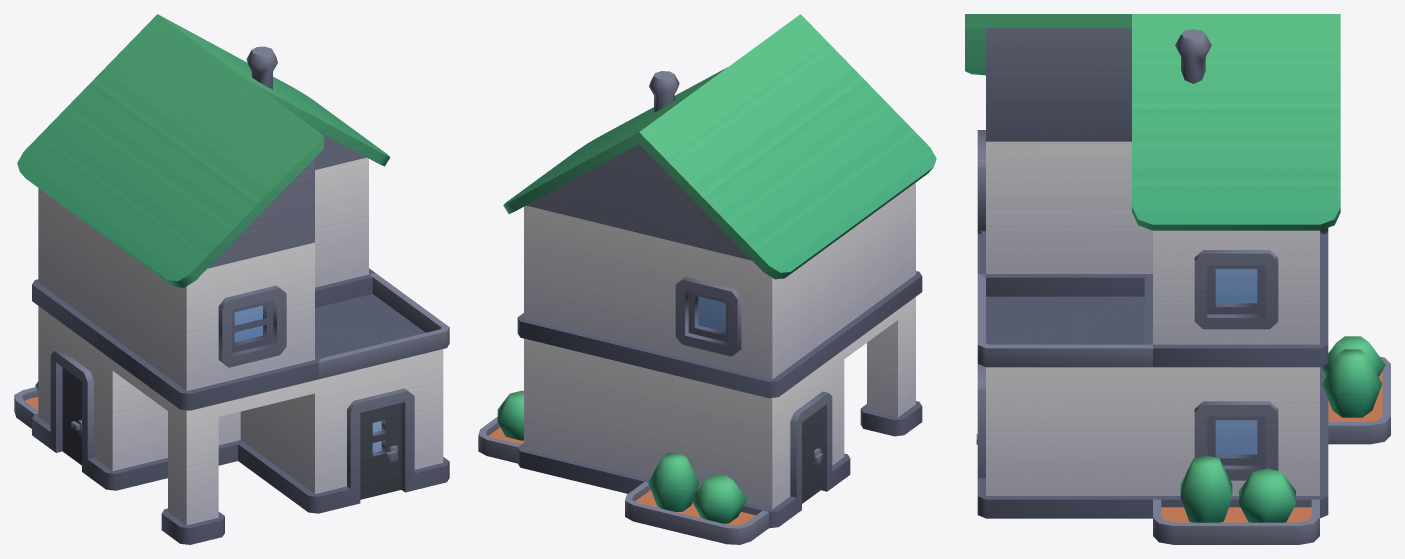
Rendered from house2_level1.glb.
The picture shows the model from 3 angles, left to right: view 1: azimuth 30°, elevation 25°; view 2: azimuth 150°, elevation 25°; view 3: azimuth 270°, elevation 25°; orthographic projection. The views are drawn at different scales.
Visible parts, largest first — view 1: building-type-r; view 2: building-type-r; view 3: building-type-r.
Boxes of the visible parts, box(x1,y1,x2,y2) form: building-type-r: box(14, 14, 449, 544); building-type-r: box(478, 14, 936, 544); building-type-r: box(965, 14, 1390, 544).
Bounding box in the file's own units: 1.03 × 1.14 × 1.02.
Materials: 1 (1 with a texture image).
